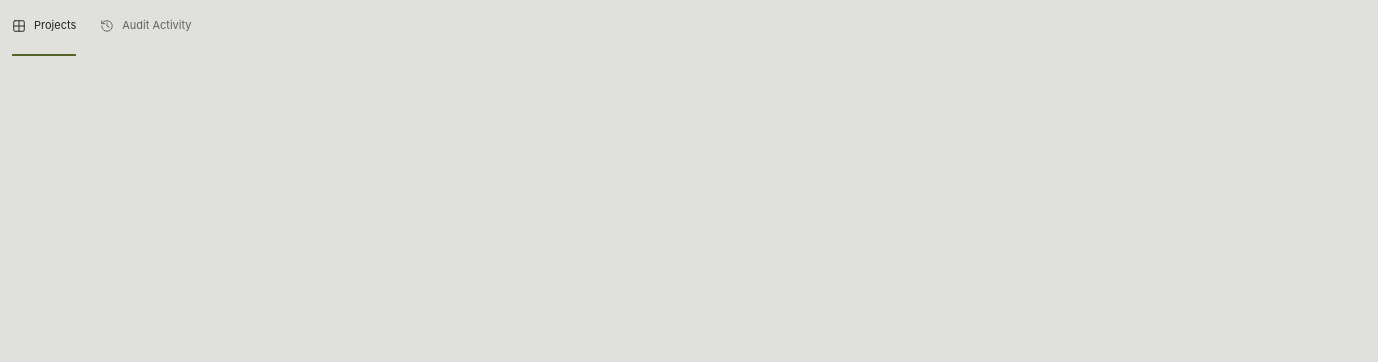
Test: scoped activity navigation › opens the live workspace feed and returns to its home tab
Later steps or results of the test are not shown.
Click the link "Audit Activity" at (146, 26), box [100, 18, 192, 33]
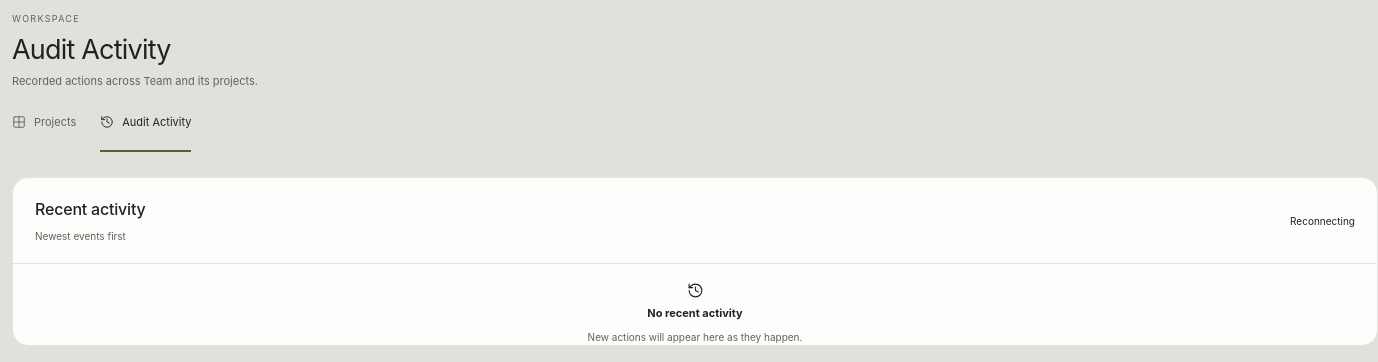
Expected: the heading "Audit Activity" is shown, [12, 33, 171, 66]
